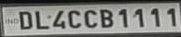character: (34, 10, 49, 30), (99, 8, 114, 28), (18, 11, 32, 30), (52, 10, 66, 29), (67, 9, 81, 28), (83, 9, 97, 28), (149, 7, 161, 28), (166, 7, 177, 27), (118, 8, 128, 28), (134, 8, 144, 28)
